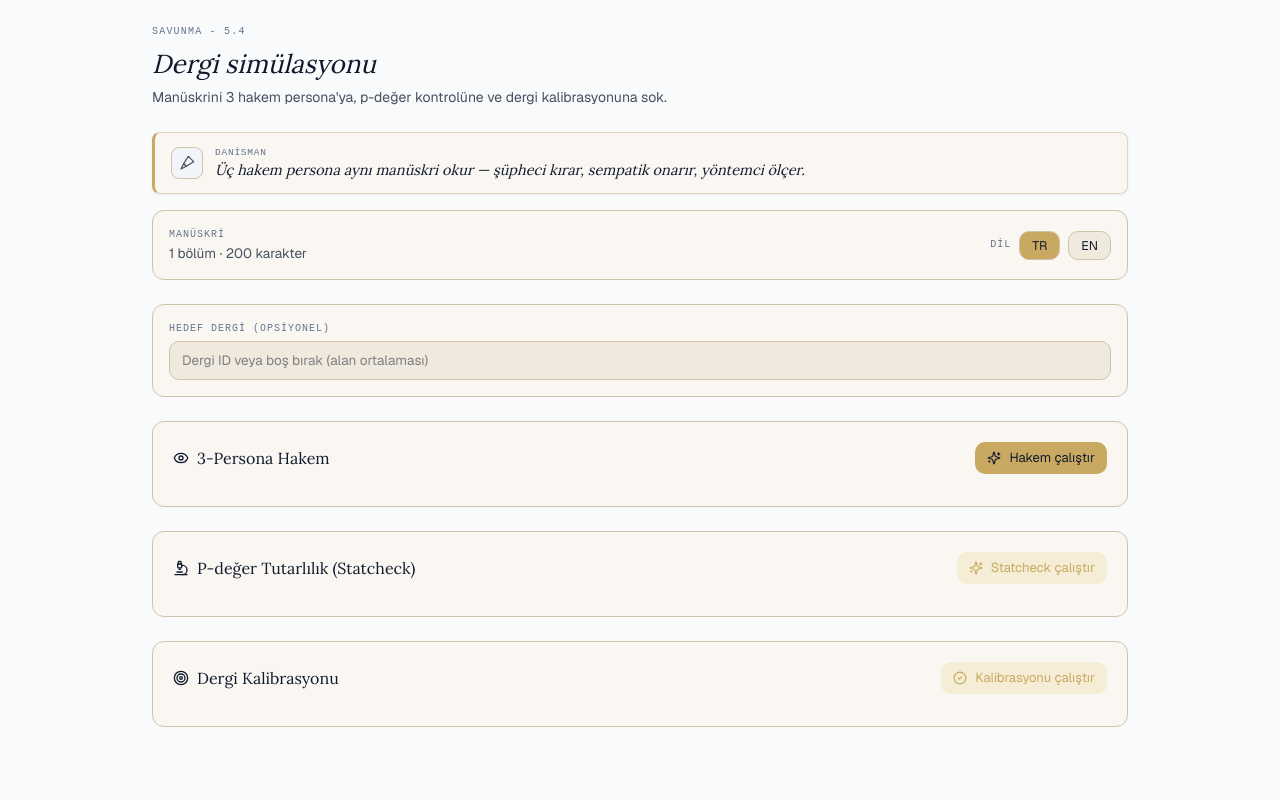
Scenario: JournalSimulationPage › statcheck endpoint + green/yellow/red chip + result rows
Expected: the text "1 bölüm · 200 karakter" is shown, [169, 242, 307, 263]
Click the button "Statcheck çalıştır".
click(1032, 568)  # box [957, 552, 1107, 584]
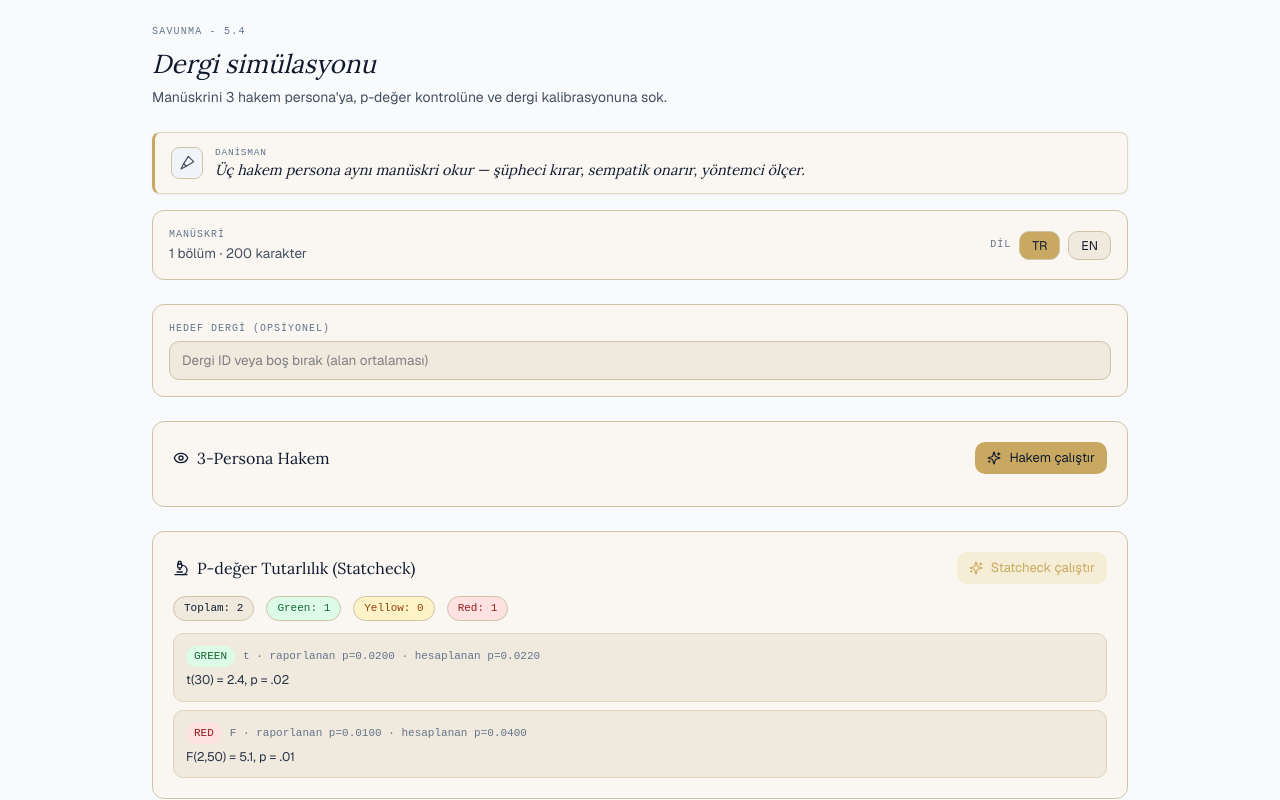
Expected: the text "Toplam: 2" is shown, [173, 596, 254, 621]
Expected: the text "Green: 1" is shown, [266, 596, 341, 621]
Expected: the text "Red: 1" is shown, [447, 596, 508, 621]
